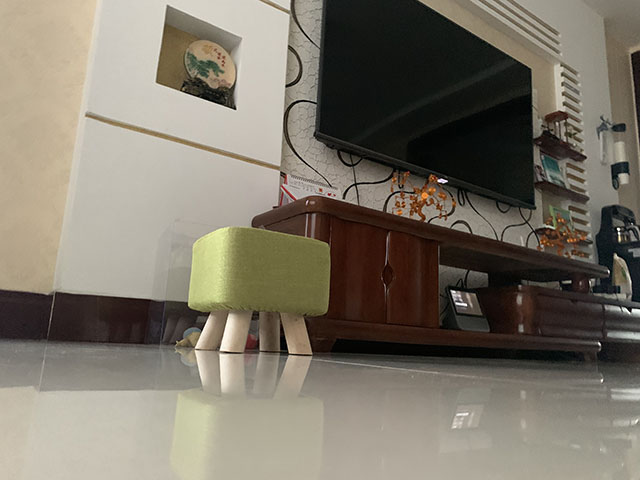cabinet: (250, 194, 639, 365)
stool: (186, 224, 332, 357)
